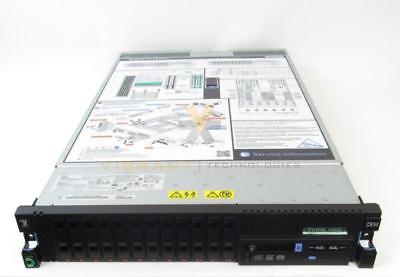ibm-server: (10, 41, 384, 271), (9, 199, 385, 274)
